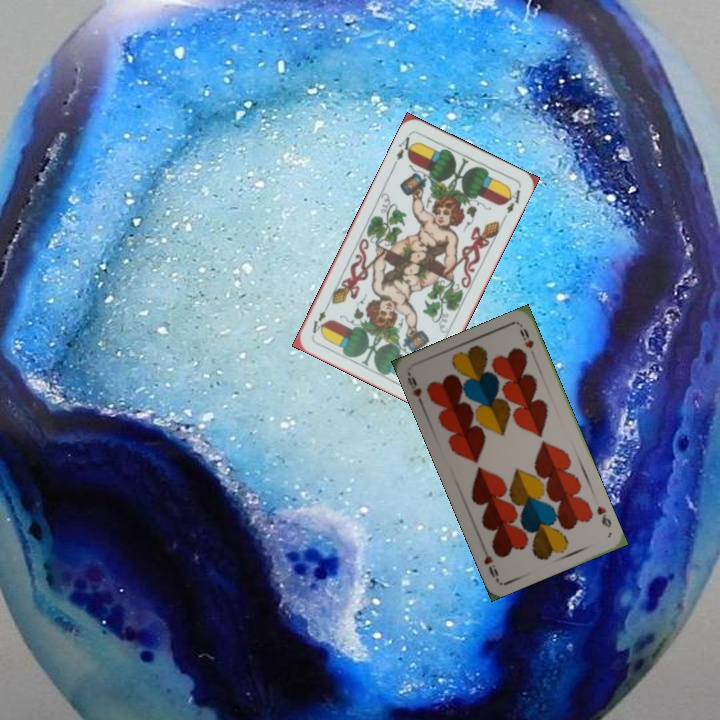EA: (389, 130, 417, 168)
H9: (403, 370, 426, 409), (593, 502, 614, 530)
